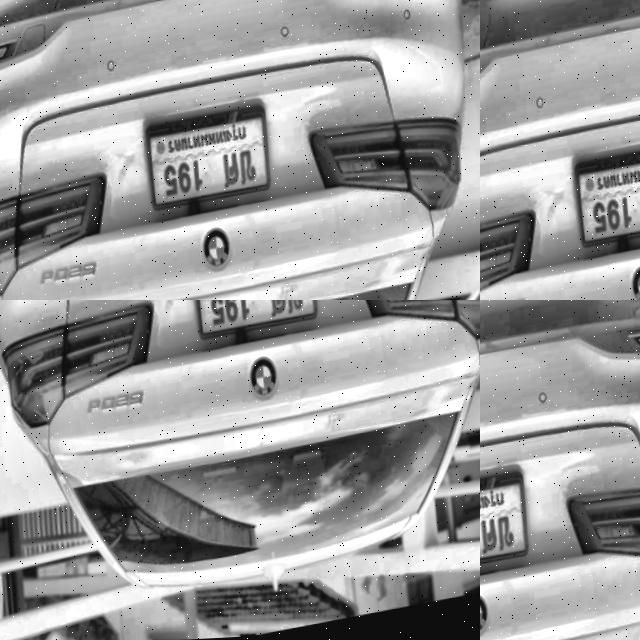license-plate: (480, 470, 537, 583)
